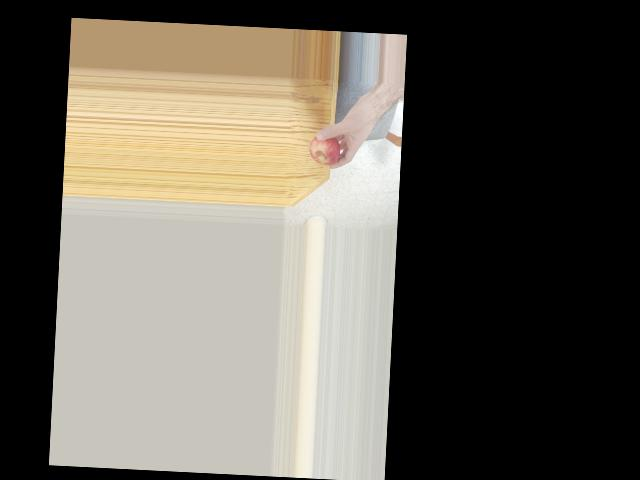apple: (309, 132, 341, 167)
